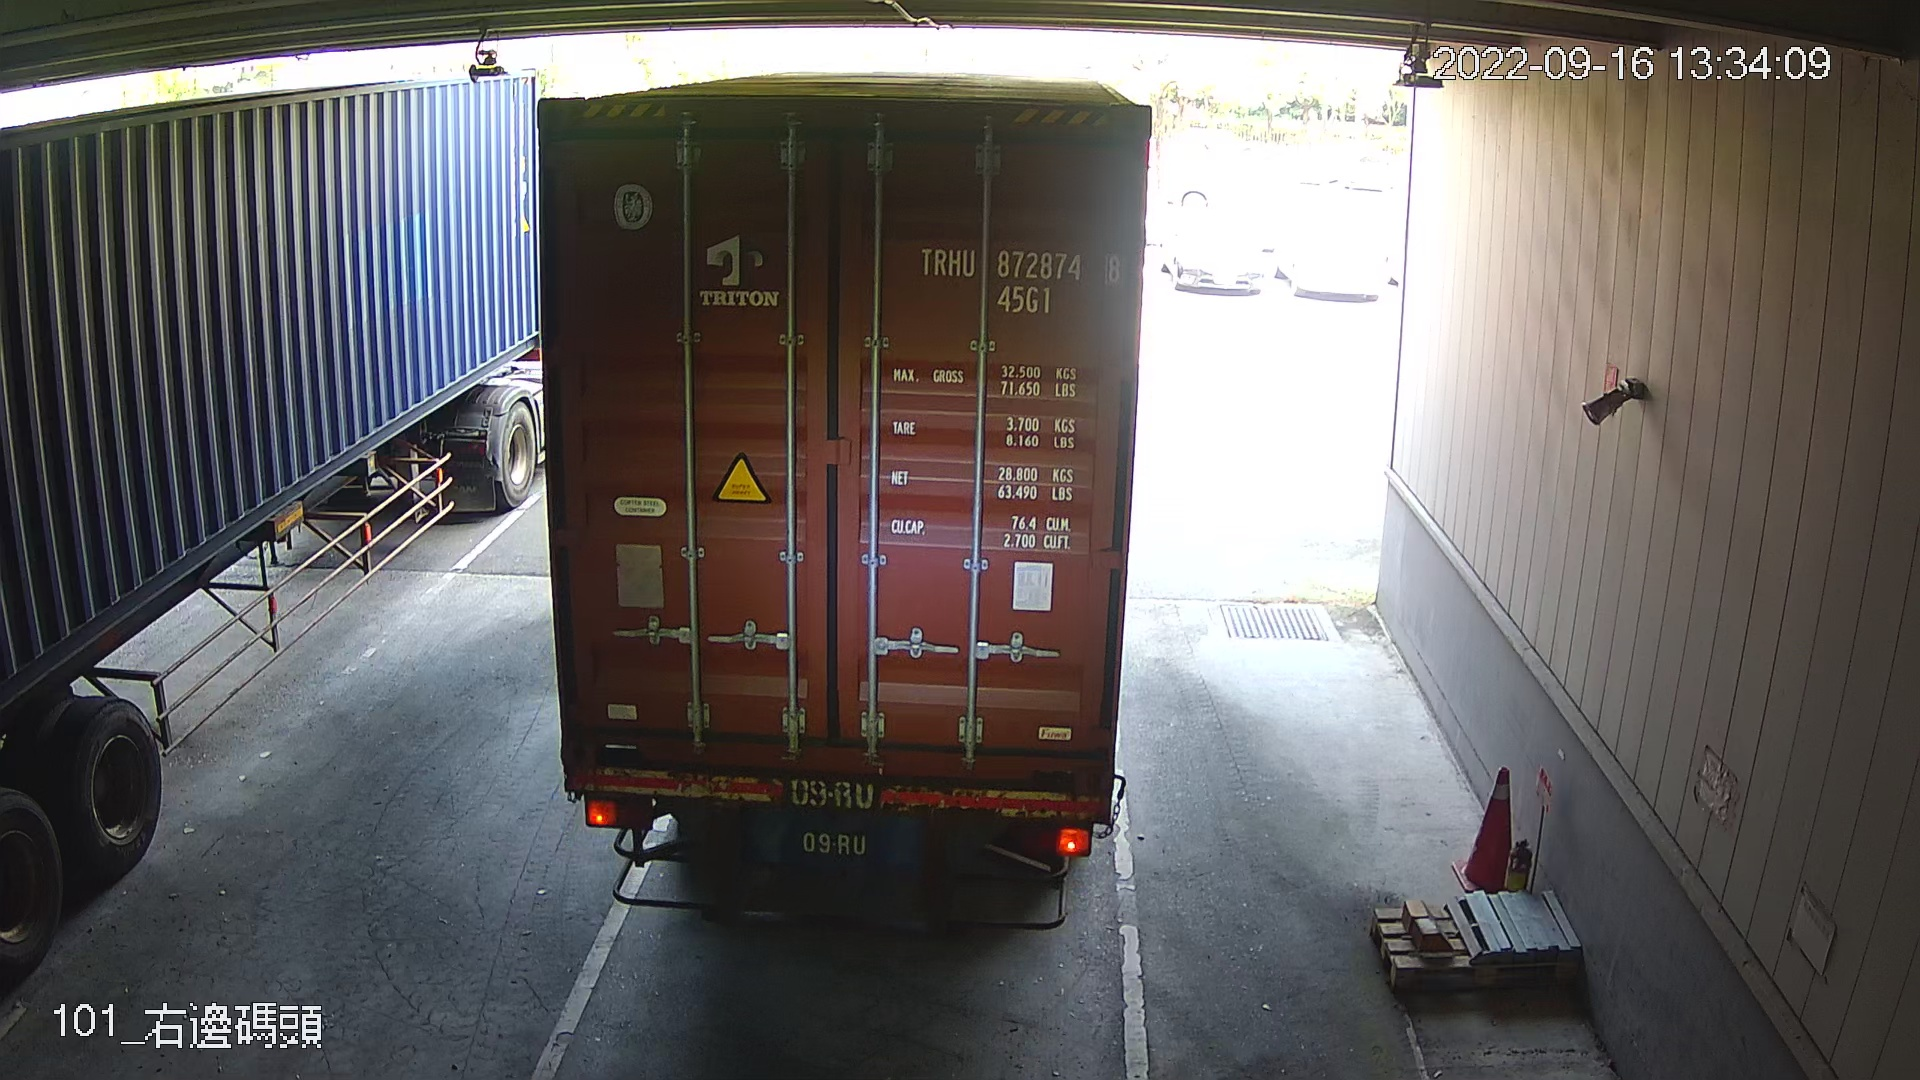container: (907, 231, 1127, 323)
